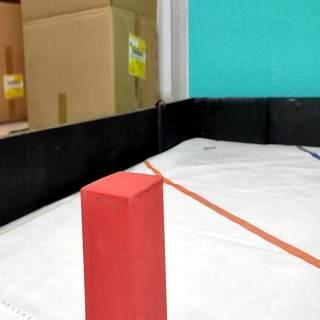redbox: (81, 170, 166, 320)
